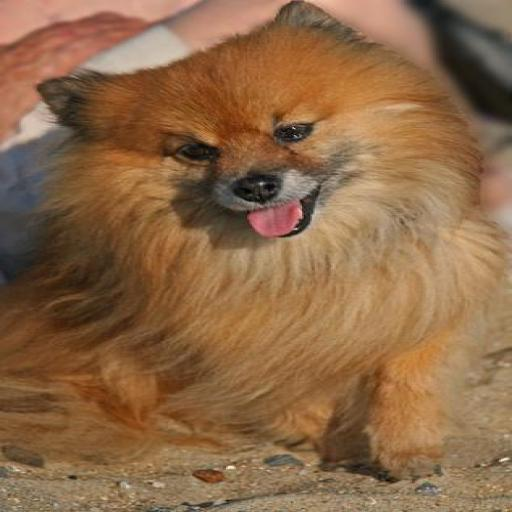dog_face: (45, 7, 414, 244)
